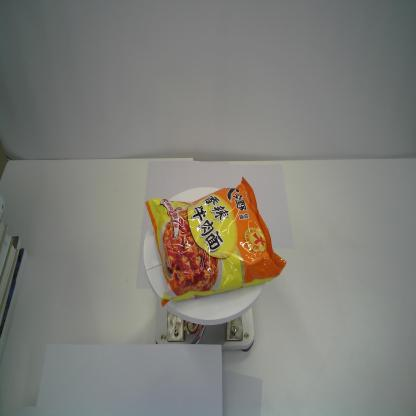Instant Noodles: (144, 176, 288, 308)
